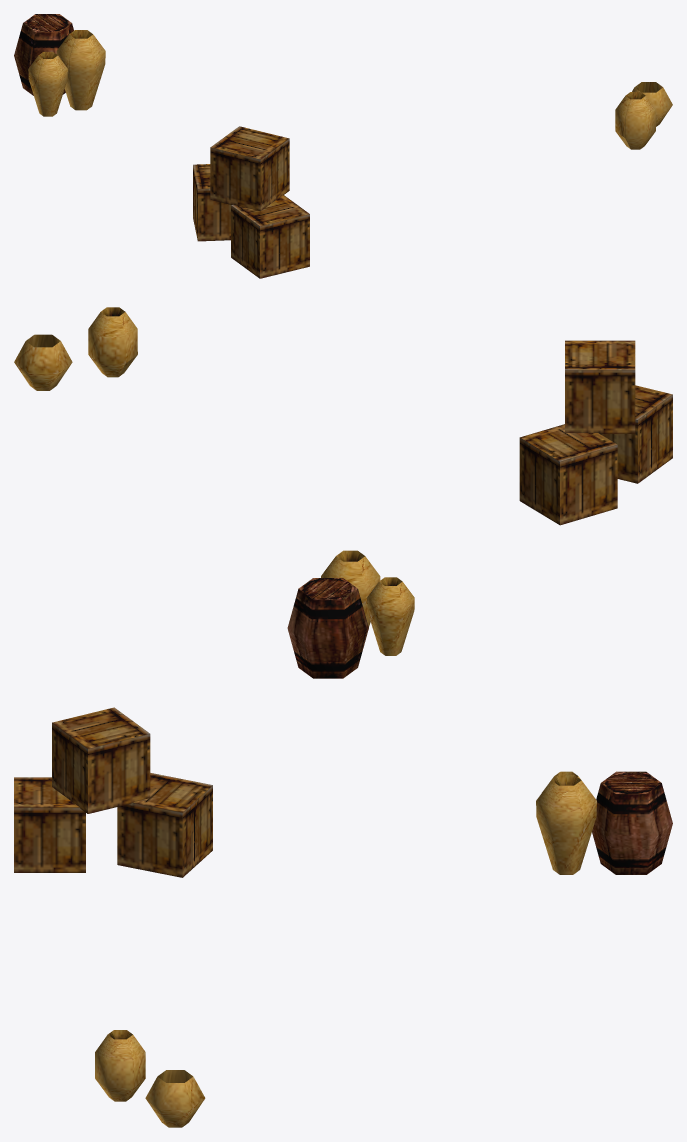
The model's file is pers_dock_2.dae.
3 views of the same model, one above another, from view 1: azimuth 30°, elevation 25°; view 2: azimuth 150°, elevation 25°; view 3: azimuth 270°, elevation 25° (orthographic). The views are drawn at different scales.
Visible parts, largest first — view 1: GeoSphere06-Pivot; view 2: GeoSphere06-Pivot; view 3: GeoSphere06-Pivot.
Boxes of the visible parts, box(x1,y1,x2,y2) form: GeoSphere06-Pivot: box(14, 14, 672, 278); GeoSphere06-Pivot: box(14, 307, 672, 678); GeoSphere06-Pivot: box(14, 707, 672, 1127).
Bounding box in the file's own units: 14.4 × 13.74 × 3.09.
